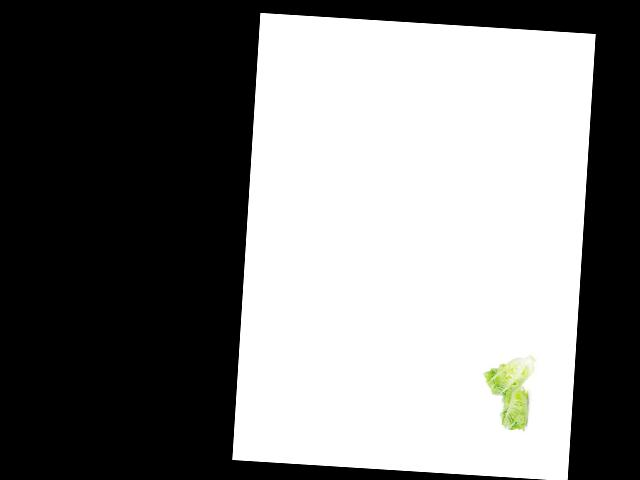lettuce: (483, 351, 539, 403)
